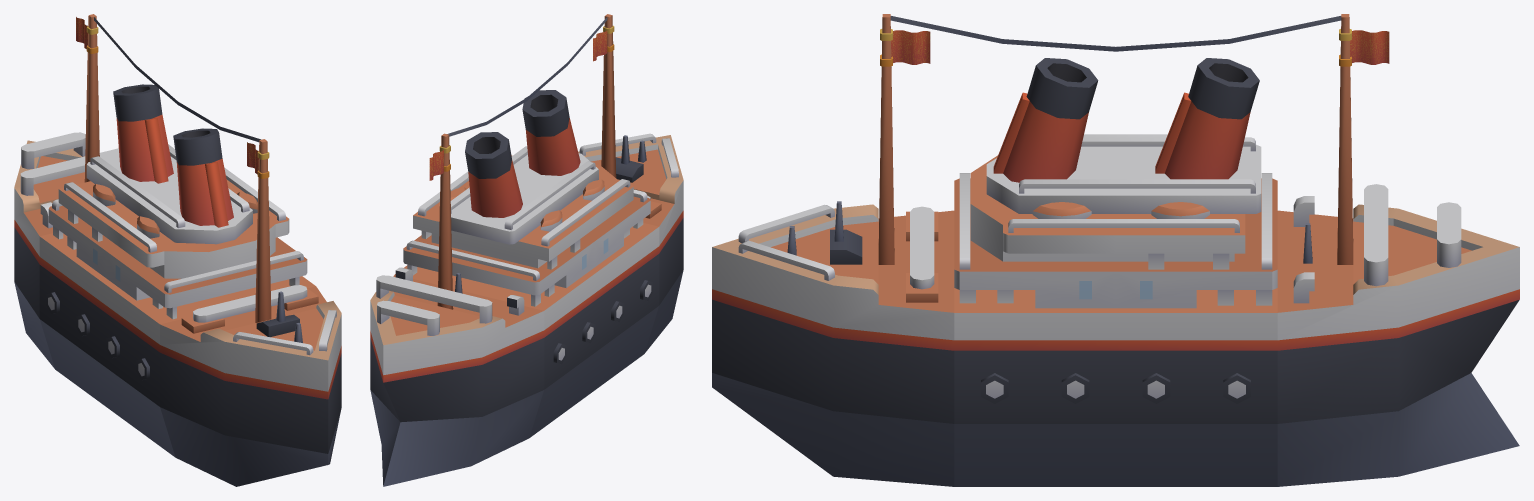
The model's file is ship-ocean-liner-small.glb.
The picture shows the model from 3 angles, left to right: view 1: azimuth 30°, elevation 25°; view 2: azimuth 150°, elevation 25°; view 3: azimuth 270°, elevation 25°; orthographic projection. The views are drawn at different scales.
Visible parts, largest first — view 1: ship-ocean-liner-small; view 2: ship-ocean-liner-small; view 3: ship-ocean-liner-small.
Part boxes in pixels (<box>): ship-ocean-liner-small: <box>14,14,341,486</box>; ship-ocean-liner-small: <box>370,14,683,486</box>; ship-ocean-liner-small: <box>712,14,1519,486</box>.
Bounding box in the file's own units: 4.76 × 8.93 × 15.2.
